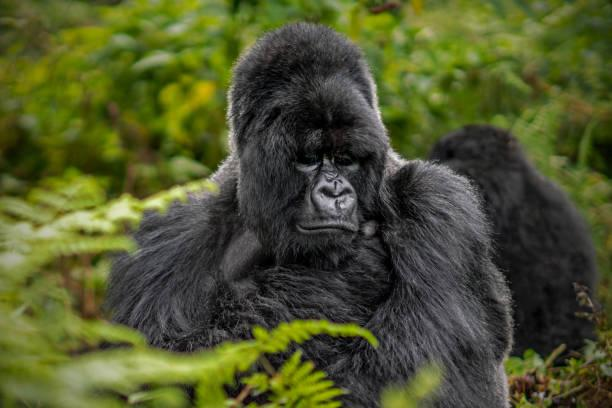goriile_montagne: (144, 17, 498, 396)
